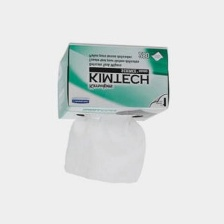book: (48, 37, 174, 128)
tissue: (59, 109, 150, 190)
